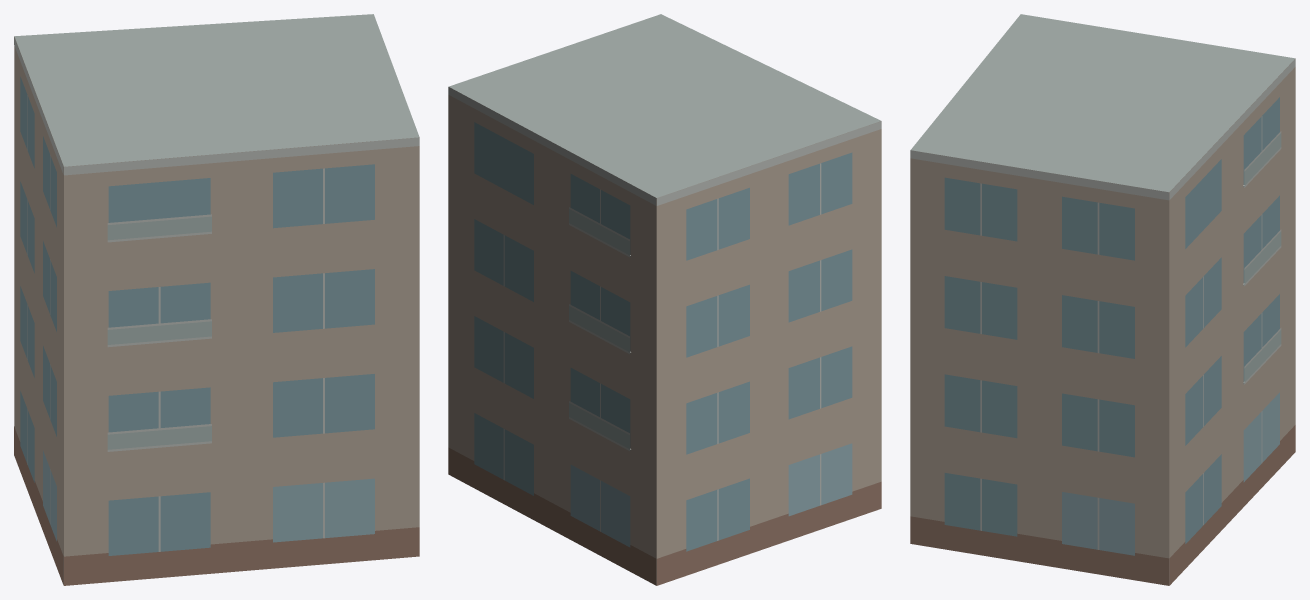
File: survey-upis-32726288.glb
3 renders of one model, left to right at view 1: azimuth 30°, elevation 25°; view 2: azimuth 150°, elevation 25°; view 3: azimuth 270°, elevation 25°, orthographic. The views are drawn at different scales.
Visible parts, largest first — view 1: survey-upis-32726288.tmp; view 2: survey-upis-32726288.tmp; view 3: survey-upis-32726288.tmp.
Boxes of the visible parts, x1,y1,x2,y2 form: survey-upis-32726288.tmp: (14, 14, 419, 585); survey-upis-32726288.tmp: (448, 14, 881, 585); survey-upis-32726288.tmp: (910, 14, 1295, 585).
Size of the model in its own units: 11.47 by 11.8 by 10.48.
